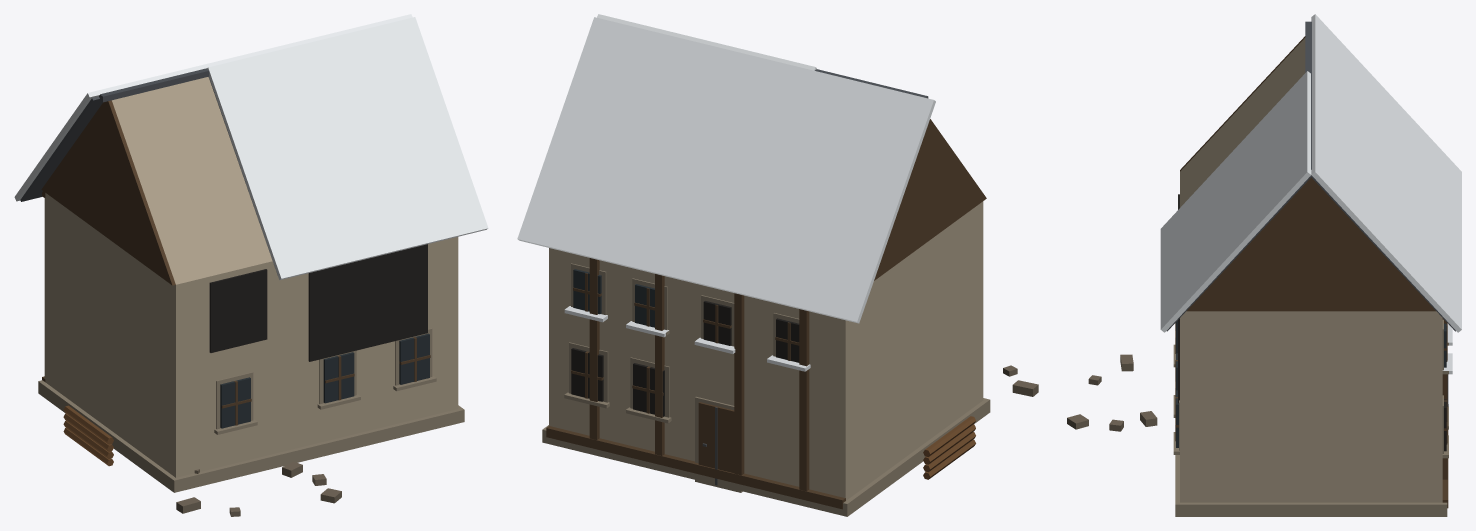
Rendered from house_ardennes_damaged.glb.
3 renders of one model, left to right at view 1: azimuth 30°, elevation 25°; view 2: azimuth 150°, elevation 25°; view 3: azimuth 270°, elevation 25°, orthographic. The views are drawn at different scales.
Visible parts, largest first — view 1: house_ardennes_damaged, snow_cap; view 2: house_ardennes_damaged, snow_cap; view 3: house_ardennes_damaged, snow_cap.
Boxes of the visible parts, bbox=[...] form: house_ardennes_damaged: bbox=[20, 68, 464, 516]; snow_cap: bbox=[14, 14, 488, 280]; house_ardennes_damaged: bbox=[542, 69, 1038, 516]; snow_cap: bbox=[517, 14, 935, 371]; house_ardennes_damaged: bbox=[1067, 21, 1455, 516]; snow_cap: bbox=[1160, 14, 1461, 374].
Size of the model in its own units: 9.7 by 9.88 by 9.93.
